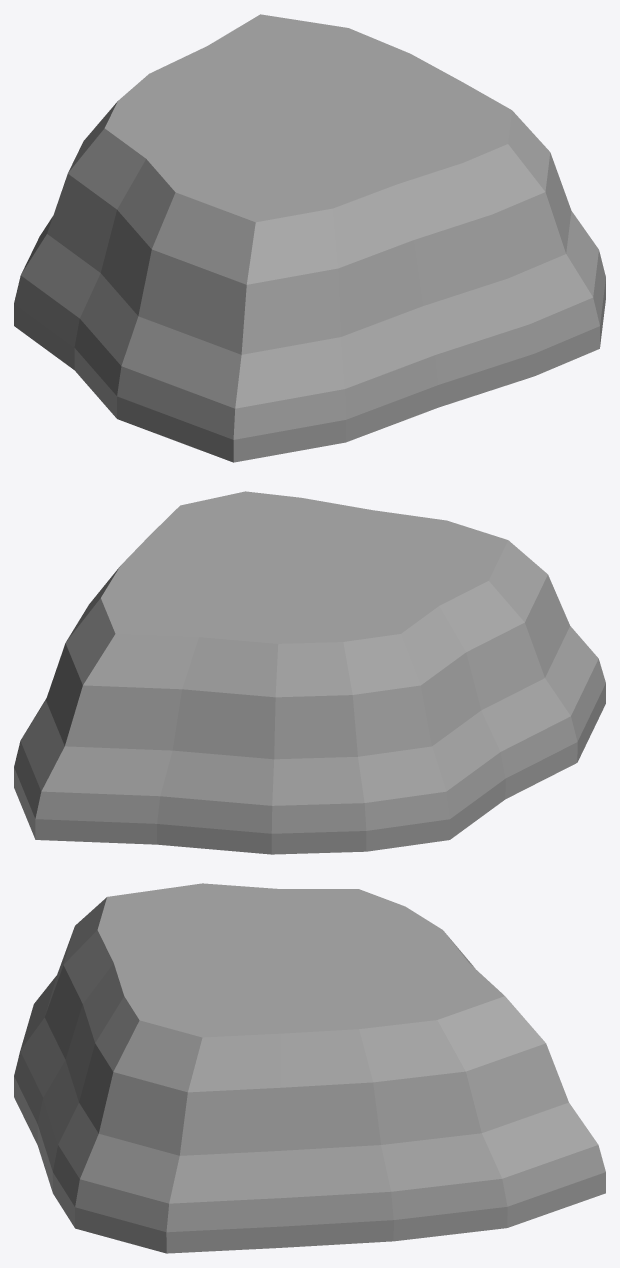
The model's file is rock.glb.
3 renders of one model, top to bottom at view 1: azimuth 30°, elevation 25°; view 2: azimuth 150°, elevation 25°; view 3: azimuth 270°, elevation 25°, orthographic. The views are drawn at different scales.
Parts seen in each view (by area): view 1: Rock-col; view 2: Rock-col; view 3: Rock-col.
Boxes of the visible parts, left/top/right/bottom form: Rock-col: left=14, top=14, right=605, bottom=462; Rock-col: left=14, top=491, right=605, bottom=854; Rock-col: left=14, top=883, right=605, bottom=1253.
Bounding box in the file's own units: 3.26 × 1.23 × 3.64.
1 material, 1 textured.
